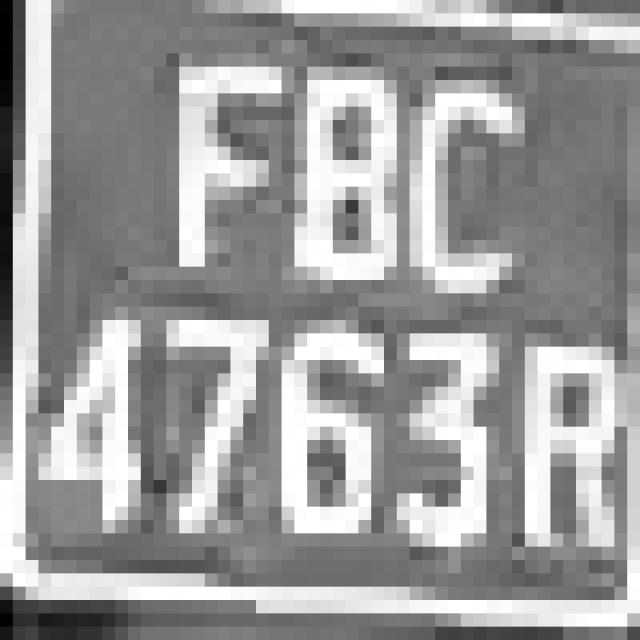3: (358, 280, 486, 573)
4: (13, 294, 179, 534)
6: (269, 293, 384, 560)
7: (141, 280, 256, 520)
B: (269, 13, 397, 320)
C: (410, 27, 563, 360)
F: (154, 13, 282, 294)
R: (499, 267, 627, 560)
